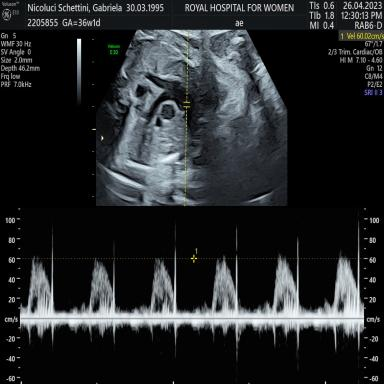Ultrasound-Waves: (24, 217, 362, 384)
